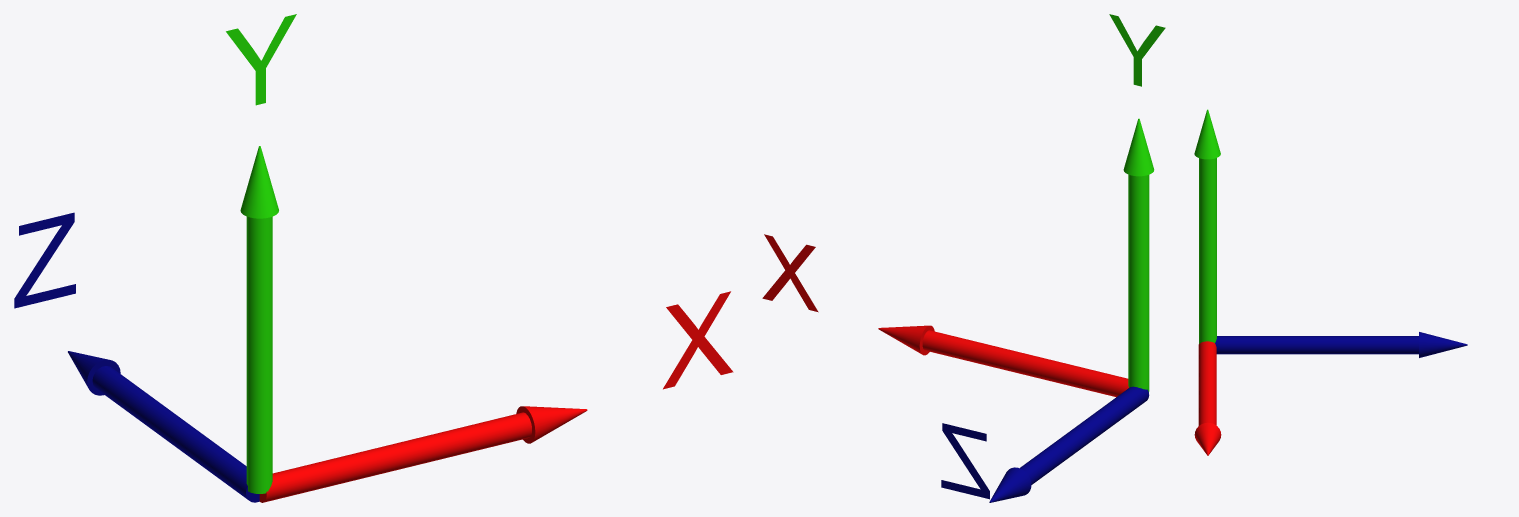
The model's file is gizmos.fbx.
The picture shows the model from 3 angles, left to right: view 1: azimuth 30°, elevation 25°; view 2: azimuth 150°, elevation 25°; view 3: azimuth 270°, elevation 25°; orthographic projection. The views are drawn at different scales.
Visible parts, largest first — view 1: Cylinder003, Cylinder002, Cylinder001, Z, Text001, Cone003, Y, Cone002, Cone001; view 2: Cylinder003, Cylinder002, Cylinder001, Z, Text001, Cone003, Y, Cone001, Cone002; view 3: Cylinder001, Cylinder003, Cylinder002, Cone003, Cone001, Cone002.
Boxes of the visible parts, x1=… form: Cylinder003: x1=246, y1=216, x2=272, y2=493; Cylinder002: x1=259, y1=412, x2=531, y2=502; Cylinder001: x1=92, y1=366, x2=259, y2=502; Z: x1=14, y1=212, x2=75, y2=308; Text001: x1=663, y1=291, x2=733, y2=389; Cone003: x1=240, y1=146, x2=278, y2=218; Y: x1=226, y1=14, x2=296, y2=105; Cone002: x1=516, y1=406, x2=587, y2=443; Cone001: x1=68, y1=351, x2=120, y2=395; Cylinder003: x1=1128, y1=174, x2=1149, y2=391; Cylinder002: x1=922, y1=330, x2=1128, y2=397; Cylinder001: x1=1020, y1=386, x2=1149, y2=484; Z: x1=941, y1=423, x2=989, y2=499; Text001: x1=762, y1=234, x2=818, y2=312; Cone003: x1=1123, y1=118, x2=1154, y2=176; Y: x1=1109, y1=14, x2=1165, y2=86; Cone001: x1=989, y1=467, x2=1031, y2=502; Cone002: x1=878, y1=325, x2=934, y2=355; Cylinder001: x1=1215, y1=336, x2=1418, y2=354; Cylinder003: x1=1199, y1=158, x2=1216, y2=343; Cylinder002: x1=1198, y1=341, x2=1216, y2=425; Cone003: x1=1194, y1=109, x2=1220, y2=159; Cone001: x1=1419, y1=332, x2=1467, y2=357; Cone002: x1=1194, y1=422, x2=1221, y2=455.
Bounding box in the file's own units: 60.08 × 54.74 × 46.31.
